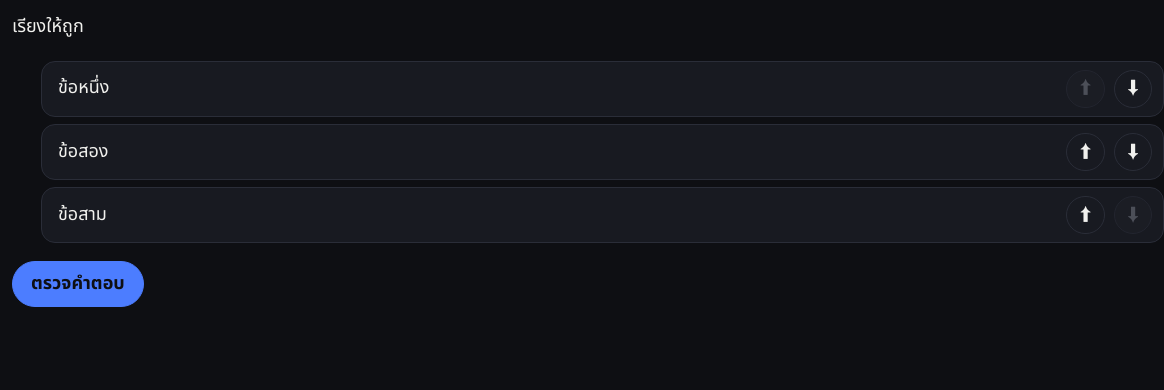
Test: ActivityView feedback › correct answer shows ถูกต้อง + rightTh, not the wrong-answer coaching
Click the button "ตรวจคำตอบ": (78, 284) [12, 261, 144, 307]
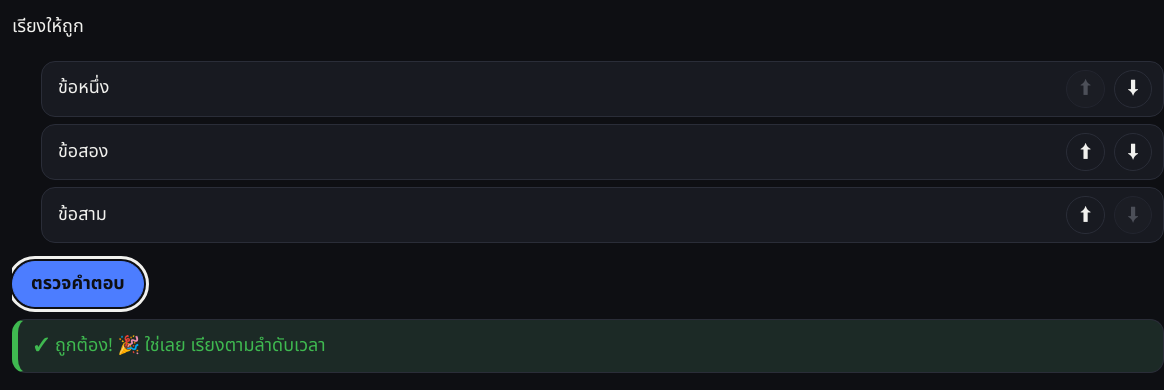
Expected: the text "ถูกต้อง! 🎉 ใช่เลย เรียงตามลำดับเวลา" is shown, [12, 319, 1163, 373]
